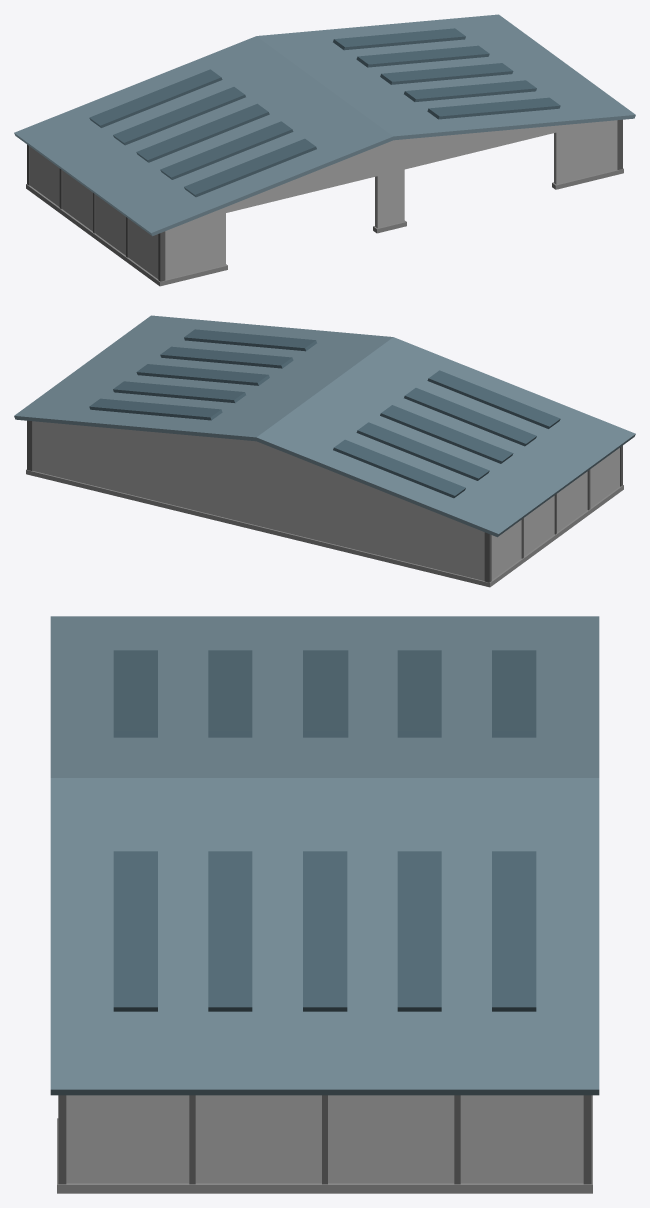
Rendered from Hangar2.fbx.
The picture shows the model from 3 angles, top to bottom: view 1: azimuth 30°, elevation 25°; view 2: azimuth 150°, elevation 25°; view 3: azimuth 270°, elevation 25°; orthographic projection. The views are drawn at different scales.
Parts seen in each view (by area): view 1: Roof, Hangar; view 2: Roof, Hangar; view 3: Roof, Hangar.
Boxes of the visible parts, x1=… form: Roof: x1=14, y1=14, x2=635, y2=236; Hangar: x1=26, y1=119, x2=623, y2=286; Roof: x1=14, y1=315, x2=635, y2=537; Hangar: x1=26, y1=420, x2=623, y2=587; Roof: x1=50, y1=616, x2=599, y2=1095; Hangar: x1=57, y1=1095, x2=592, y2=1193.
Bounding box in the file's own units: 3552 × 662 × 1740.
